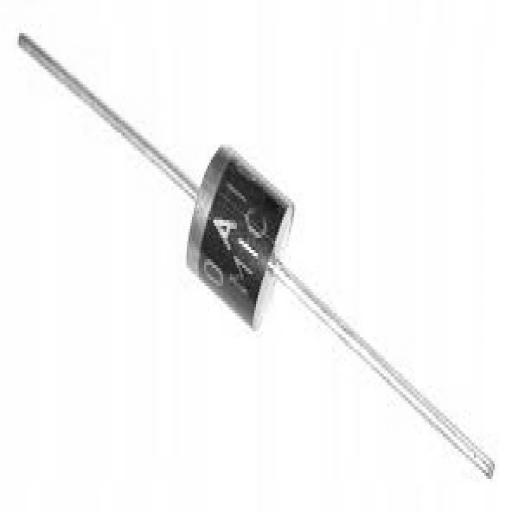DIODE: (16, 27, 494, 479)
